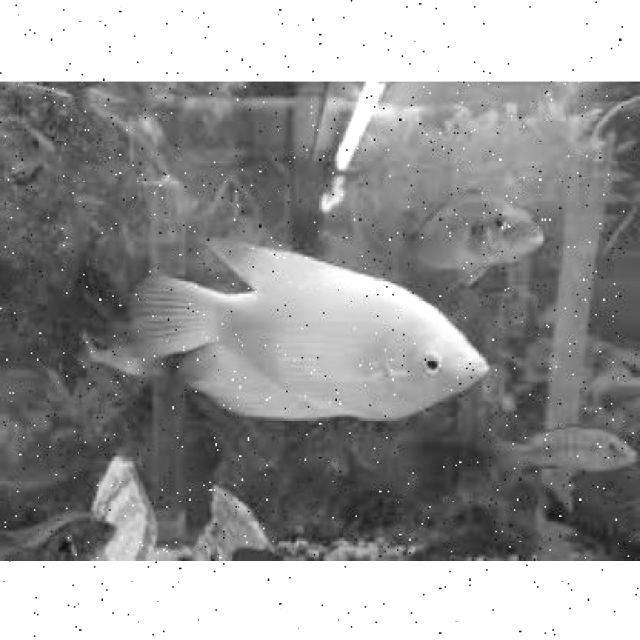gurame: (140, 256, 497, 424)
